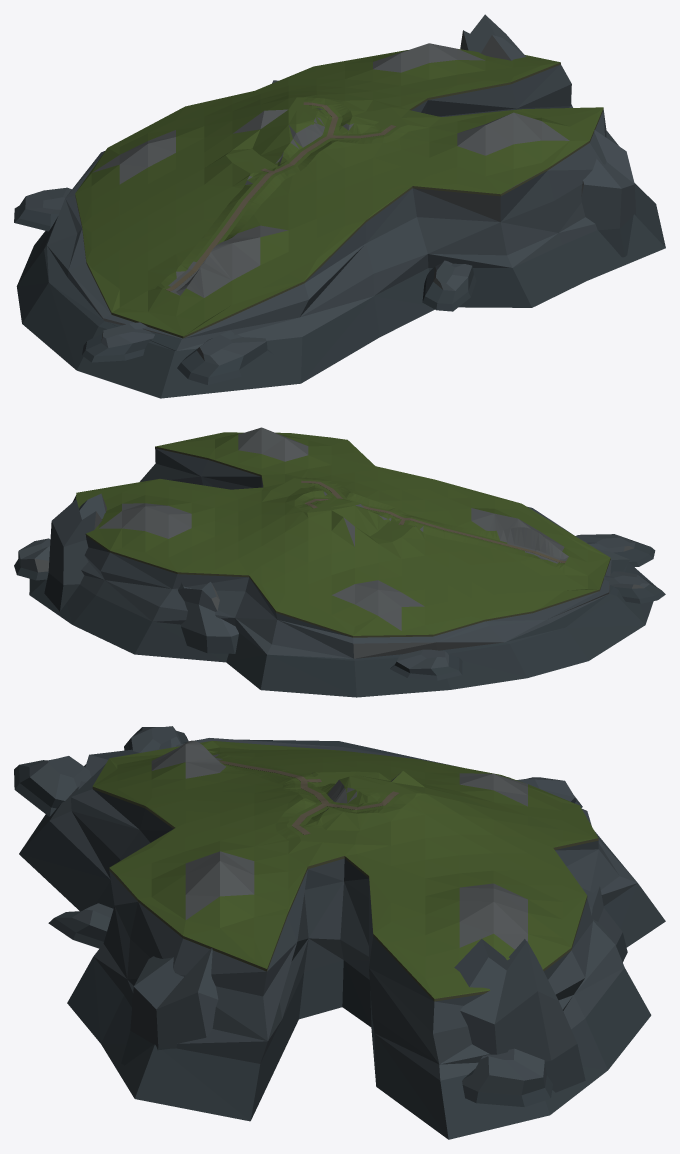
The model's file is island_a.glb.
3 views of the same model, one above another, from view 1: azimuth 30°, elevation 25°; view 2: azimuth 150°, elevation 25°; view 3: azimuth 270°, elevation 25° (orthographic). The views are drawn at different scales.
Parts seen in each view (by area): view 1: island_a_Coast short olive grass, island_a_Coast blue grey bedrock, island_a_Coast weathered stone footpath; view 2: island_a_Coast short olive grass, island_a_Coast blue grey bedrock, island_a_Coast weathered stone footpath; view 3: island_a_Coast blue grey bedrock, island_a_Coast short olive grass, island_a_Coast weathered stone footpath.
Boxes of the visible parts, x1,y1,x2,y2 form: island_a_Coast short olive grass: (75,43,603,338); island_a_Coast blue grey bedrock: (14,14,665,398); island_a_Coast weathered stone footpath: (166,102,396,291); island_a_Coast short olive grass: (76,427,610,637); island_a_Coast blue grey bedrock: (14,448,665,697); island_a_Coast weathered stone footpath: (301,480,565,563); island_a_Coast blue grey bedrock: (14,726,665,1139); island_a_Coast short olive grass: (92,740,598,1001); island_a_Coast weathered stone footpath: (218,760,399,834).
Size of the model in its own units: 205 by 42.35 by 148.
